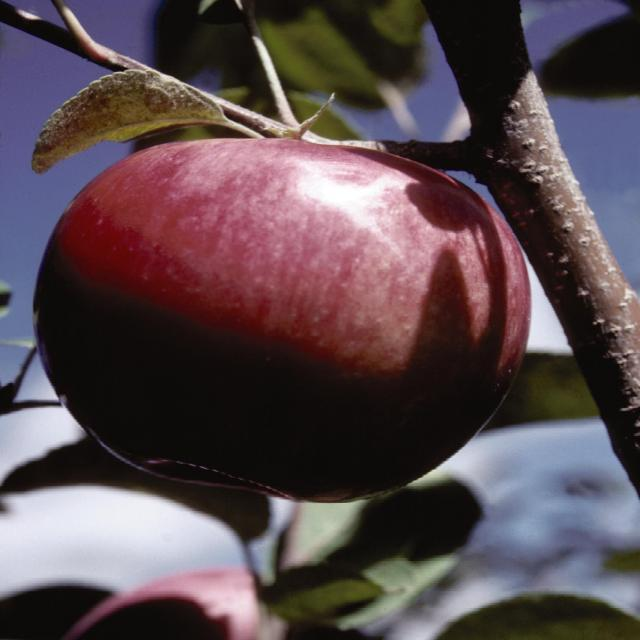Apple: (32, 126, 542, 512)
